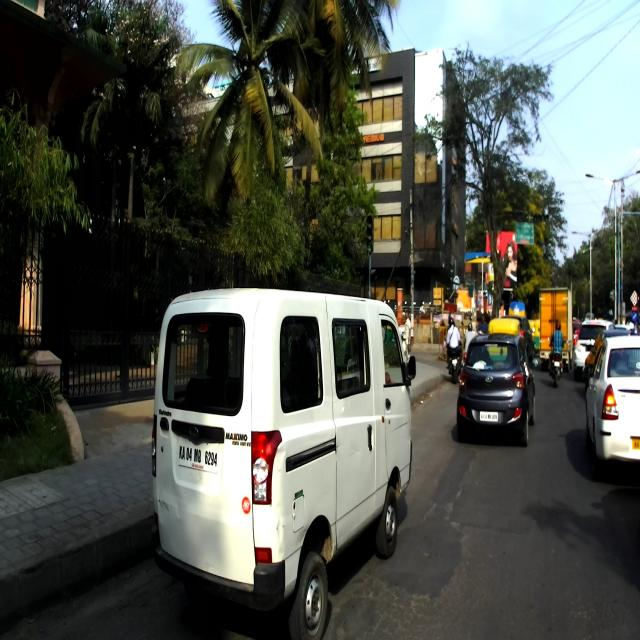autorickshaw: (488, 317, 522, 339), (533, 319, 541, 354), (527, 319, 535, 346)
car: (149, 274, 416, 630), (456, 326, 538, 446), (582, 334, 640, 474), (584, 329, 640, 411), (573, 319, 615, 381), (501, 315, 535, 362), (572, 319, 582, 345), (614, 324, 635, 333)
motorcycle: (444, 335, 463, 384), (547, 337, 562, 387)
truck: (538, 276, 574, 368)
